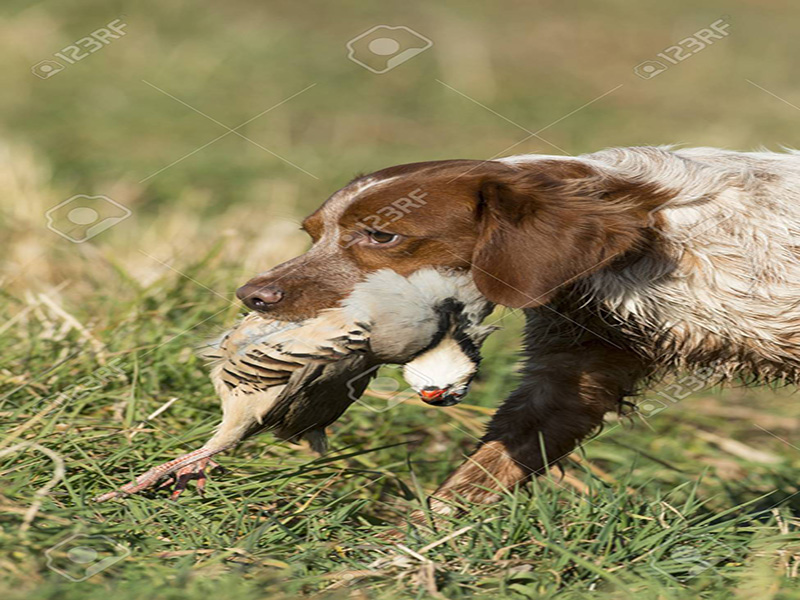cane da caccia: (251, 141, 796, 512)
